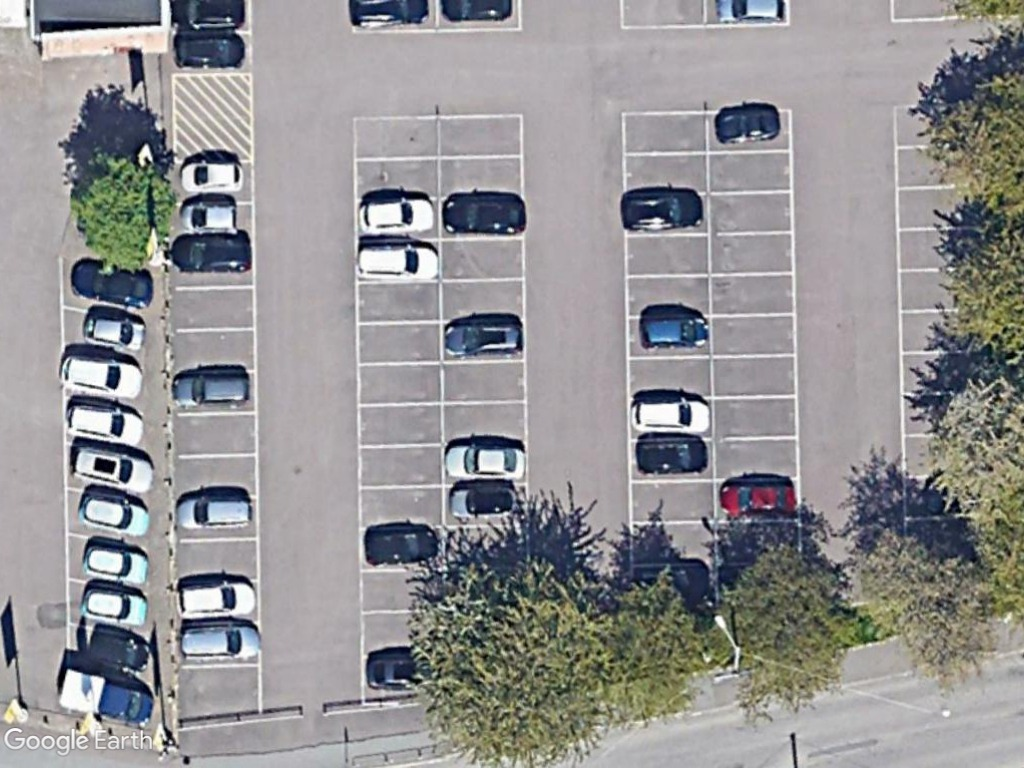car: (67, 253, 160, 313), (53, 345, 147, 404), (67, 441, 157, 500), (438, 189, 530, 245), (615, 184, 707, 237), (164, 361, 256, 414), (435, 316, 529, 366), (167, 224, 255, 277), (60, 392, 149, 444), (709, 474, 806, 521), (173, 620, 266, 669), (354, 234, 446, 283), (68, 488, 153, 541), (77, 535, 153, 594), (620, 394, 717, 439), (74, 302, 150, 358), (174, 576, 259, 626), (170, 488, 258, 535), (438, 439, 529, 484), (357, 522, 447, 567), (354, 194, 441, 240), (635, 309, 718, 356), (631, 429, 712, 477), (709, 100, 783, 150), (167, 30, 253, 73), (76, 581, 150, 630), (179, 153, 252, 200), (176, 194, 243, 237)
